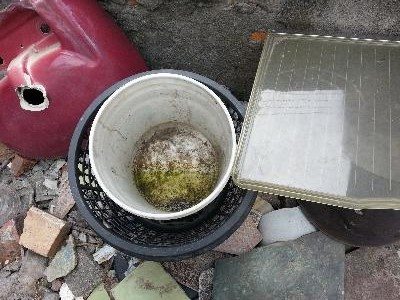bucket: (87, 74, 236, 223)
plate: (233, 28, 400, 211)
